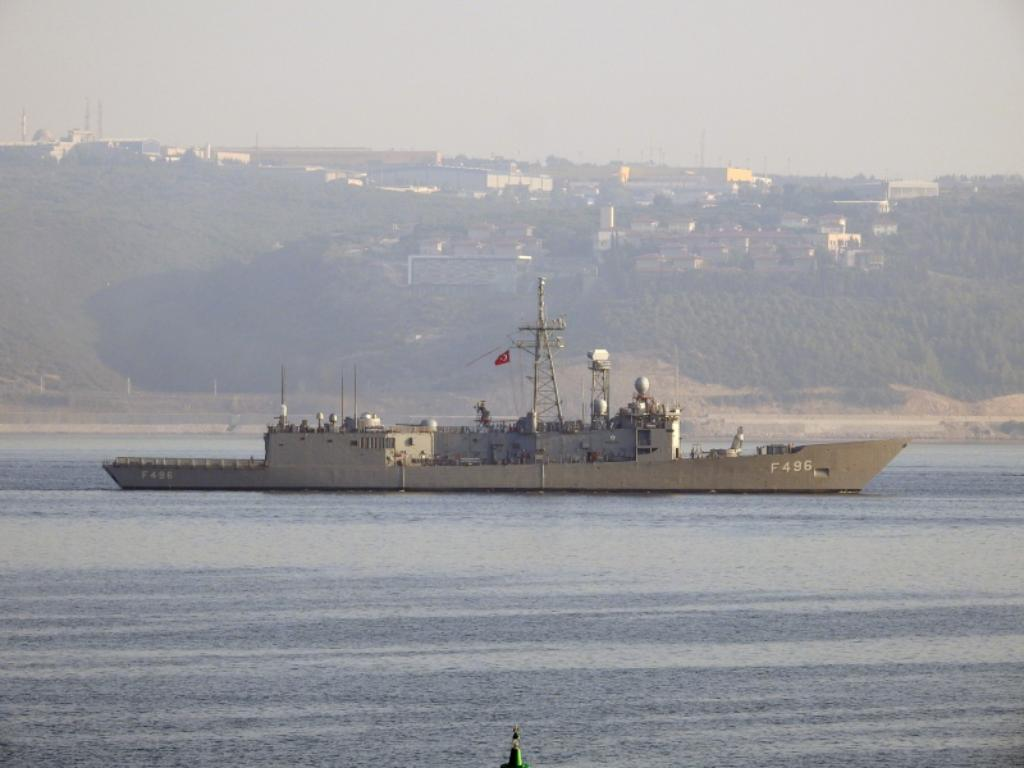Warship: (106, 266, 916, 502)
